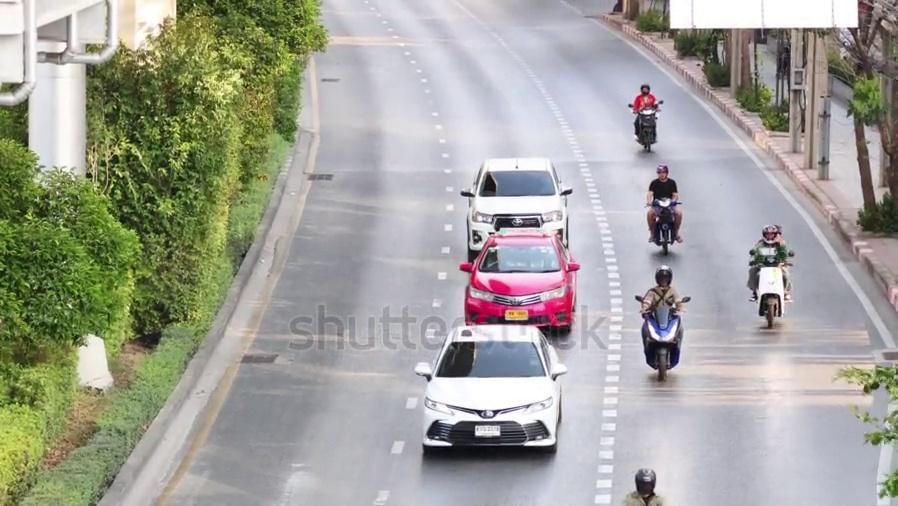rider: (638, 265, 687, 361), (746, 223, 793, 302), (645, 164, 683, 243), (622, 467, 669, 505), (631, 83, 658, 142)
with_helmate: (653, 266, 674, 290), (651, 162, 671, 184), (758, 225, 777, 244), (638, 83, 654, 96)
